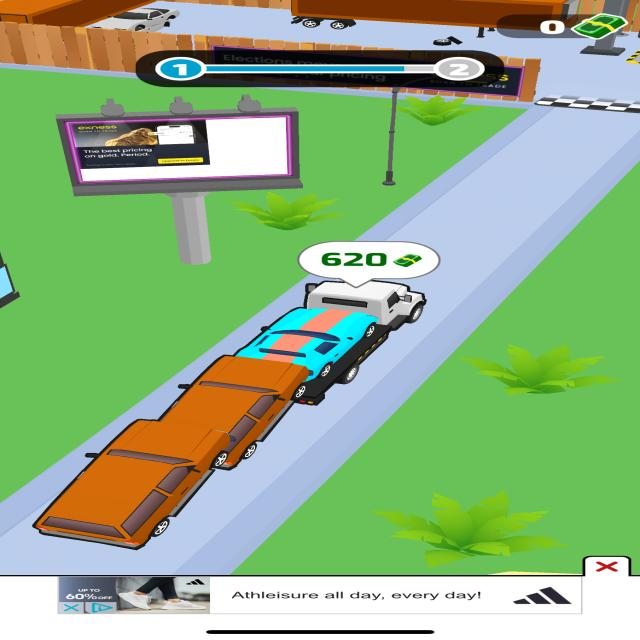billboard: (44, 99, 327, 206)
